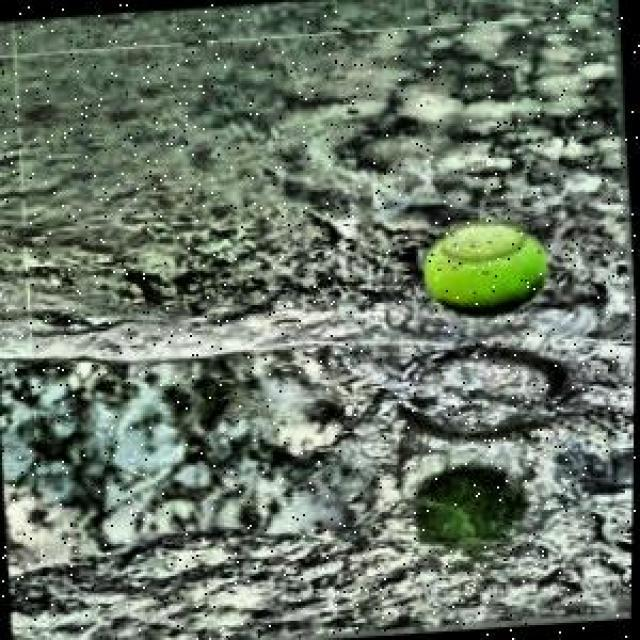tennis-ball: (420, 218, 550, 316)
